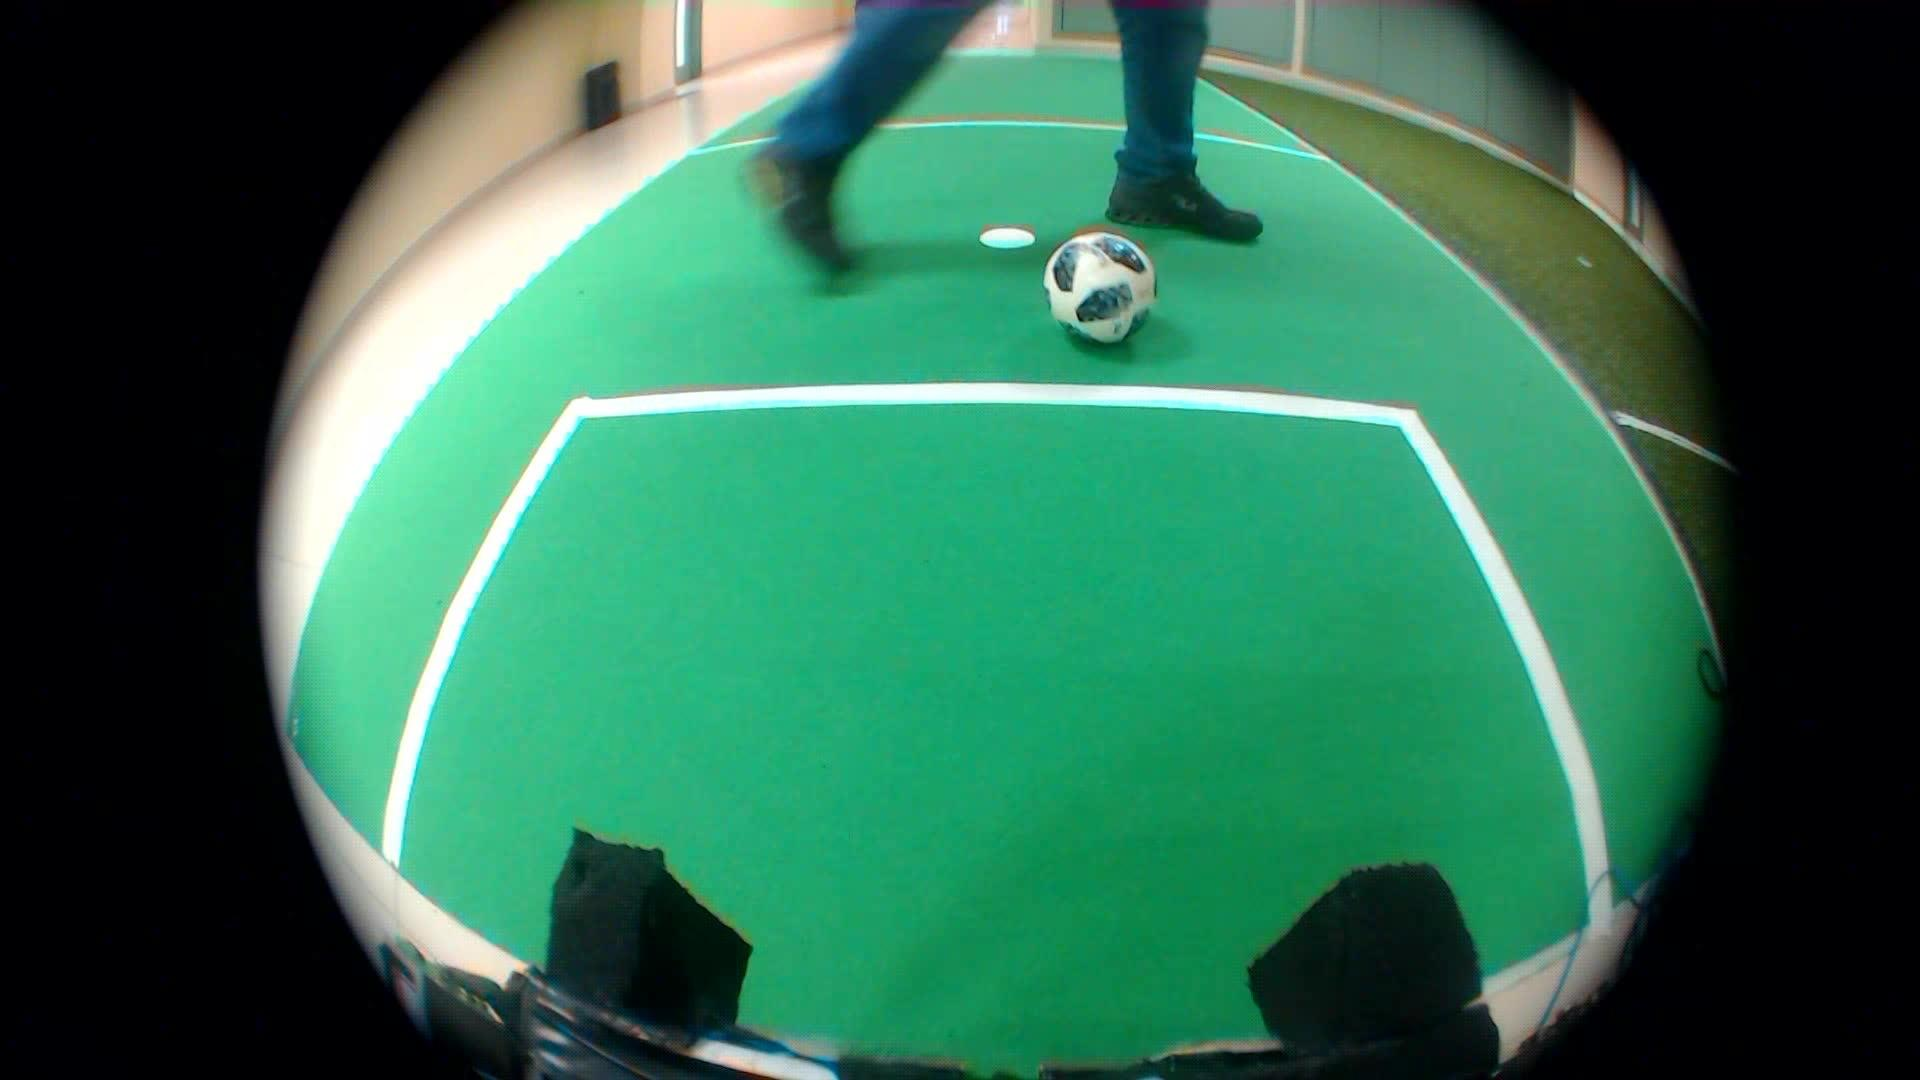ball: (1029, 216, 1166, 365)
